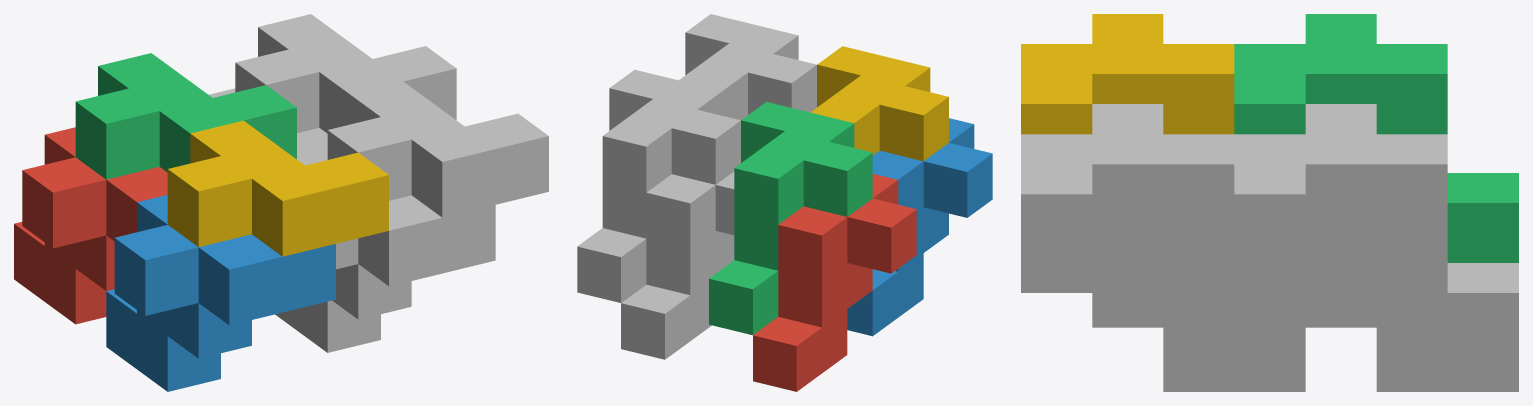
Rendered from tiling.obj.
The picture shows the model from 3 angles, left to right: view 1: azimuth 30°, elevation 25°; view 2: azimuth 150°, elevation 25°; view 3: azimuth 270°, elevation 25°; orthographic projection. The views are drawn at different scales.
Parts seen in each view (by area): view 1: copy_1_domain_2, copy_1_domain_4, copy_1_domain_8, copy_1_domain_1, copy_1_domain_3, copy_1_domain_6, copy_1_domain_7, copy_1_domain_5; view 2: copy_1_domain_3, copy_1_domain_7, copy_1_domain_1, copy_1_domain_5, copy_1_domain_2, copy_1_domain_4, copy_1_domain_8; view 3: copy_1_domain_7, copy_1_domain_8, copy_1_domain_3, copy_1_domain_4, copy_1_domain_5, copy_1_domain_6.
Part boxes in pixels (box(x1,y1,x2,y2)): copy_1_domain_2: box(106, 195, 335, 391); copy_1_domain_4: box(167, 120, 388, 256); copy_1_domain_8: box(327, 81, 548, 217); copy_1_domain_1: box(14, 127, 167, 324); copy_1_domain_3: box(75, 53, 296, 179); copy_1_domain_6: box(275, 156, 495, 352); copy_1_domain_7: box(235, 14, 456, 133); copy_1_domain_5: box(209, 88, 327, 161); copy_1_domain_3: box(709, 102, 872, 335); copy_1_domain_7: box(577, 69, 740, 302); copy_1_domain_1: box(753, 174, 916, 391); copy_1_domain_5: box(621, 171, 734, 359); copy_1_domain_2: box(847, 118, 992, 336); copy_1_domain_4: box(810, 46, 948, 161); copy_1_domain_8: box(679, 14, 816, 120); copy_1_domain_7: box(1234, 104, 1518, 357); copy_1_domain_8: box(1021, 104, 1305, 357); copy_1_domain_3: box(1234, 14, 1518, 262); copy_1_domain_4: box(1021, 14, 1234, 134); copy_1_domain_5: box(1234, 258, 1518, 391); copy_1_domain_6: box(1021, 258, 1305, 391).
Bounding box in the file's own units: 7 × 4 × 7.
